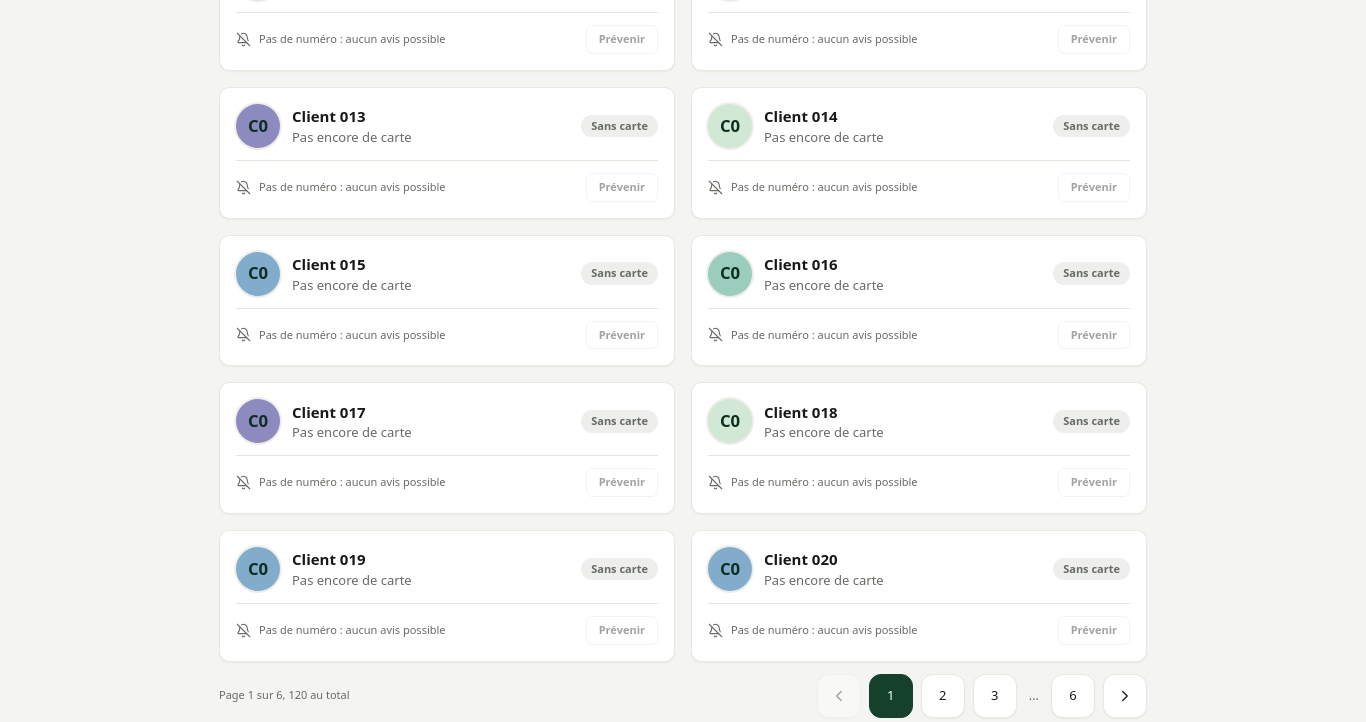
Test: pagination de la liste › revient a la premiere page quand le filtre change
(page scrolled)
What coordinates should you click on to do the following:
click the button named "page suivante"
I would click on:
 (1125, 696)
Its box is [1103,674,1147,718].
(page scrolled)
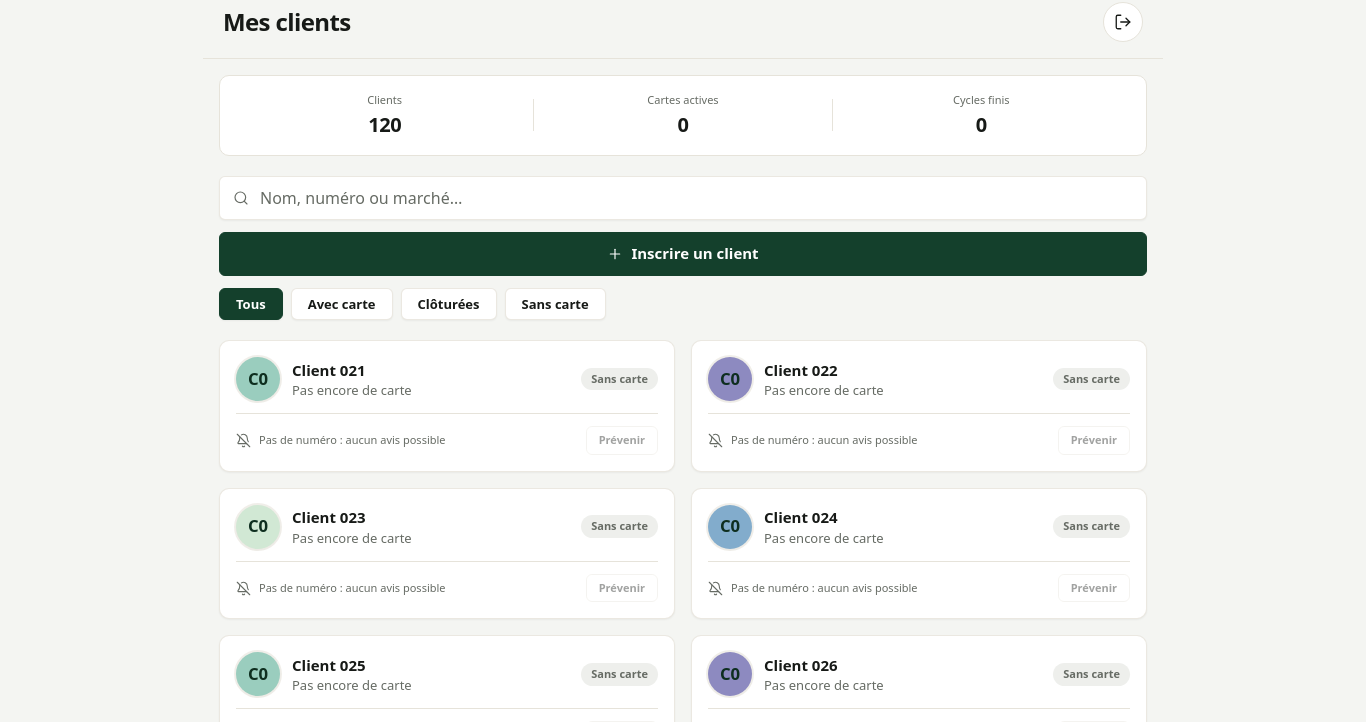
What coordinates should you click on to do the following:
click the button "Sans carte"
I would click on:
 (555, 304)
Its box is [504,288,606,320].
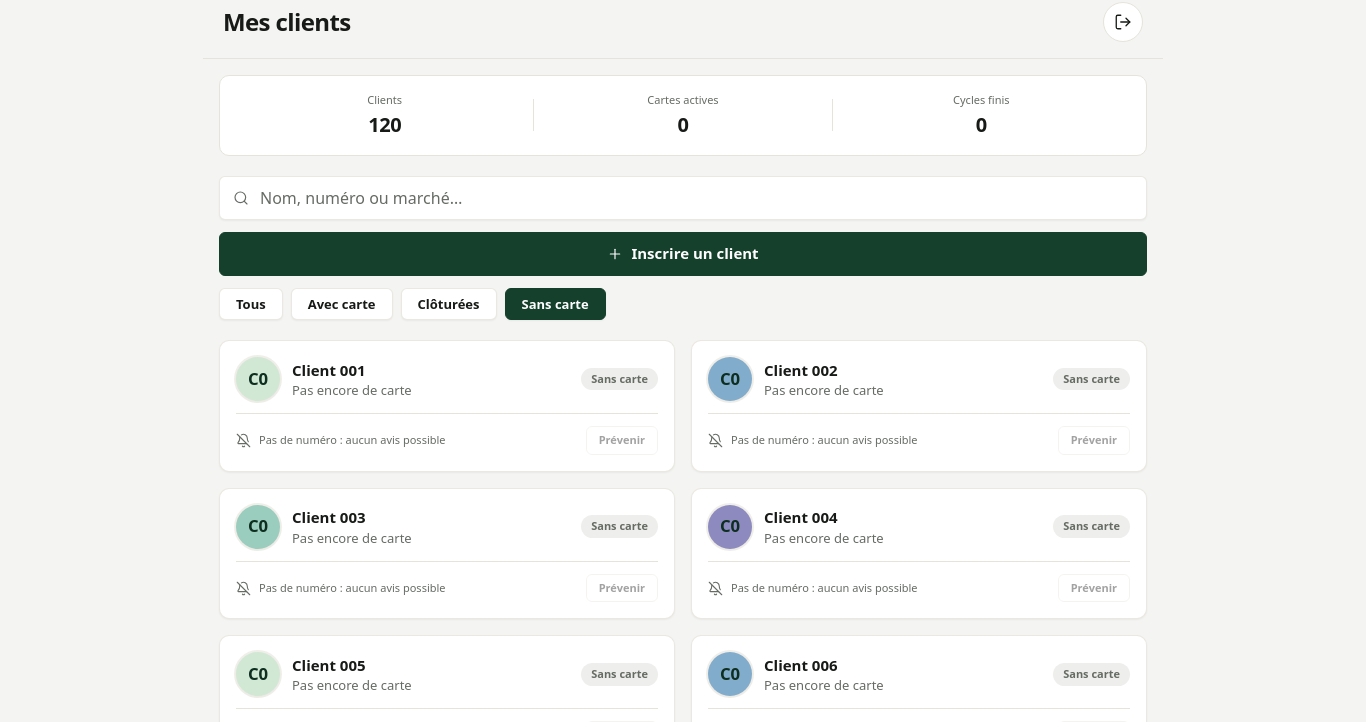
expect the text "Client 001" is shown: met, box [292,360,366,380]
